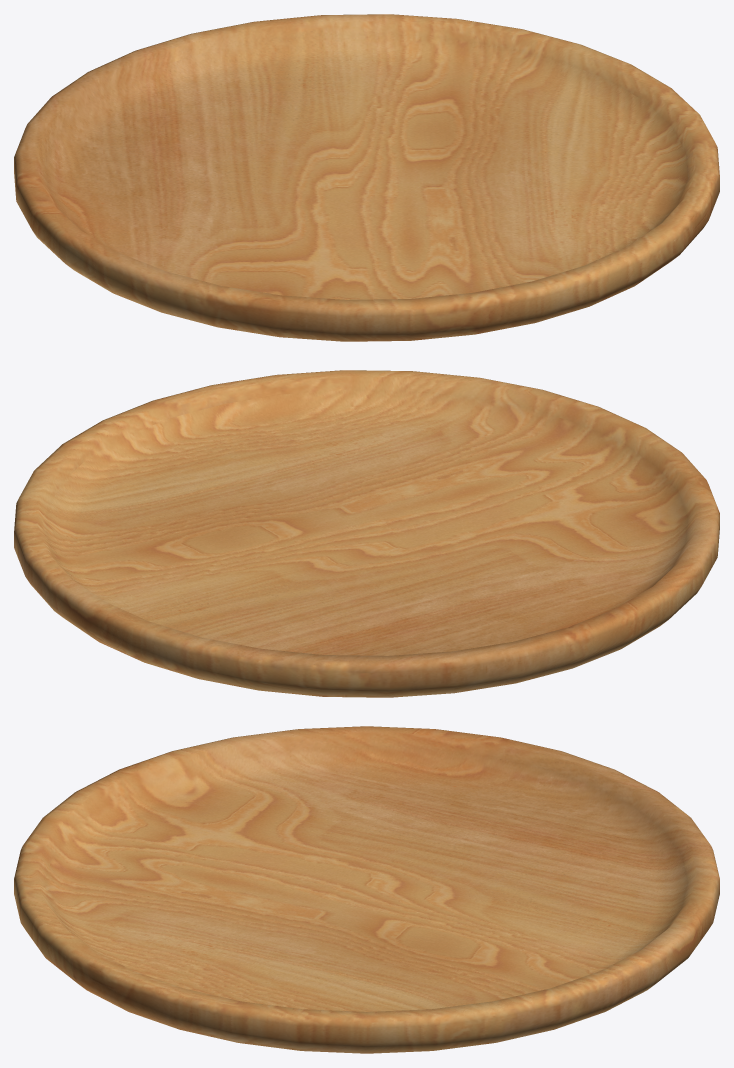
File: wooden_plate.glb
3 views of the same model, one above another, from view 1: azimuth 30°, elevation 25°; view 2: azimuth 150°, elevation 25°; view 3: azimuth 270°, elevation 25° (orthographic).
Parts seen in each view (by area): view 1: Object_2; view 2: Object_2; view 3: Object_2.
Boxes of the visible parts, x1,y1,x2,y2 form: Object_2: (14, 14, 719, 341); Object_2: (14, 370, 719, 697); Object_2: (14, 726, 719, 1053).
Bounding box in the file's own units: 59.93 × 4 × 59.93.
1 material, 1 textured.
